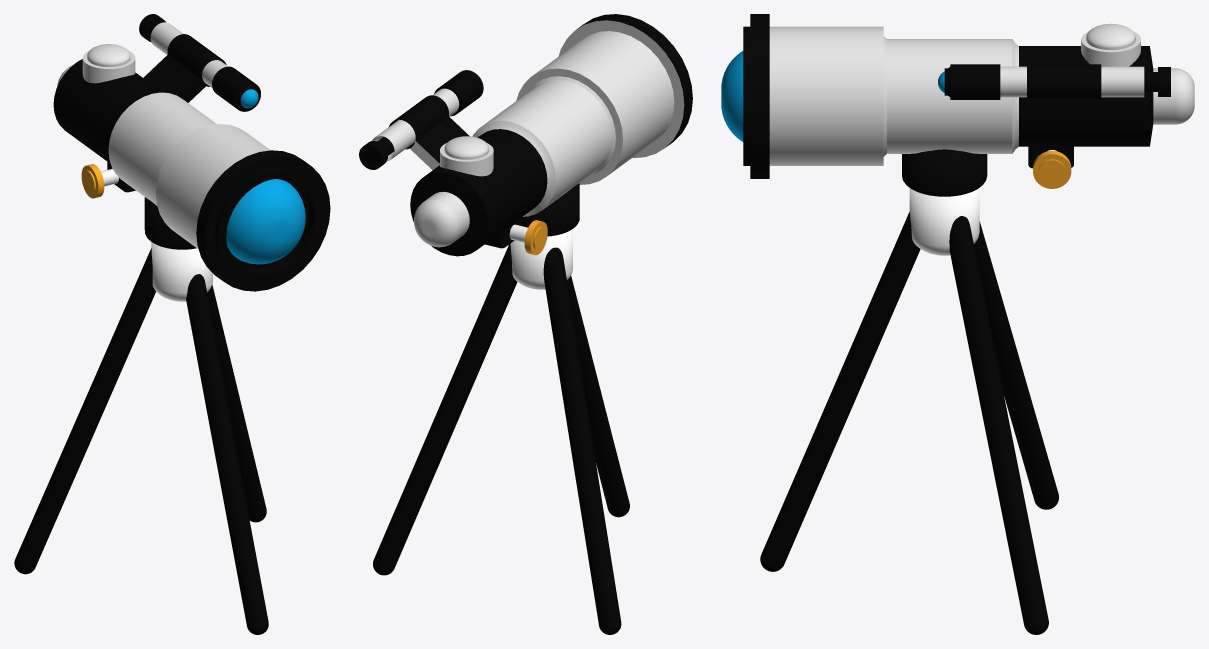
The model's file is teleskop1.glb.
The picture shows the model from 3 angles, left to right: view 1: azimuth 30°, elevation 25°; view 2: azimuth 150°, elevation 25°; view 3: azimuth 270°, elevation 25°; orthographic projection. The views are drawn at different scales.
Parts seen in each view (by area): view 1: Cylinder, Cylinder.001, Cylinder.008, Cylinder.005; view 2: Cylinder, Cylinder.001, Cylinder.008, Cylinder.005; view 3: Cylinder, Cylinder.001, Cylinder.008, Cylinder.005.
Part boxes in pixels (x1,y1,x2,y2): Cylinder: (14, 14, 330, 634); Cylinder.001: (101, 168, 212, 301); Cylinder.008: (82, 44, 135, 83); Cylinder.005: (81, 164, 104, 198); Cylinder: (359, 14, 692, 634); Cylinder.001: (509, 224, 572, 289); Cylinder.008: (440, 136, 493, 176); Cylinder.005: (524, 220, 547, 255); Cylinder: (721, 14, 1194, 634); Cylinder.001: (909, 150, 1057, 255); Cylinder.008: (1081, 23, 1140, 66); Cylinder.005: (1033, 151, 1071, 188).
Size of the model in its own units: 4.76 by 8.96 by 7.01.
